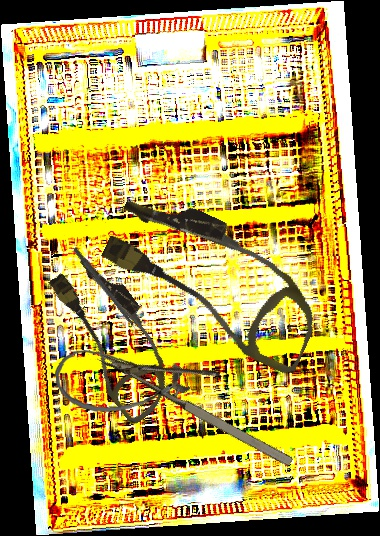Cannula: (88, 180, 340, 378), (32, 247, 196, 427), (53, 342, 175, 416)
Needle Holder: (95, 314, 312, 473)
Pusher: (71, 246, 146, 342)
